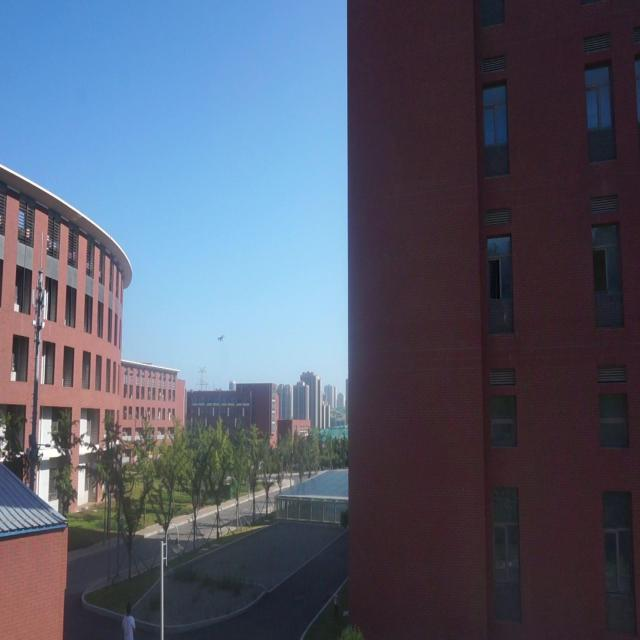drone: (217, 328, 227, 345)
